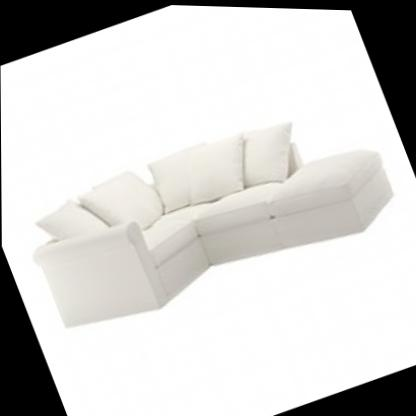Sofa: (0, 39, 415, 363)
